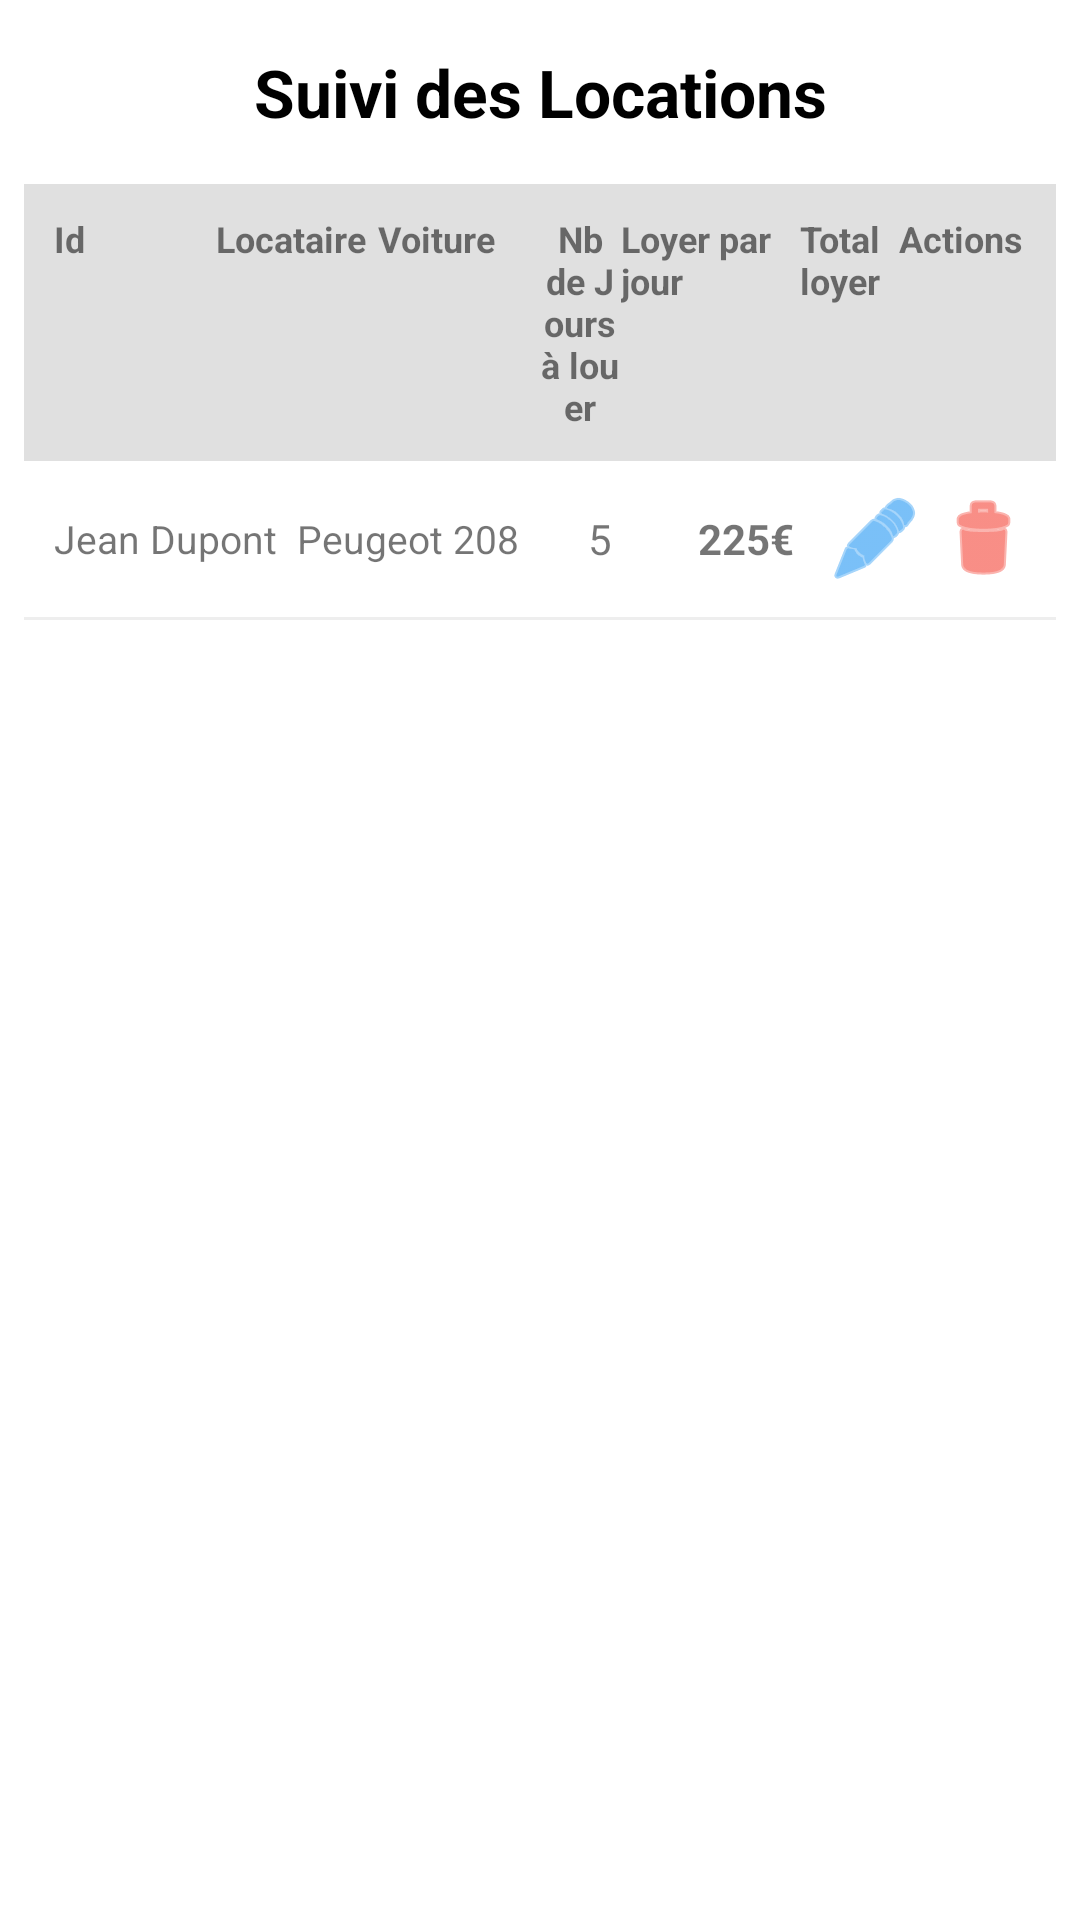

Icon bounding boxes for this 1080 x 1920 phone screenshot, format (x1, y1, x2, y2):
delete: (956, 500, 1011, 575)
edit: (834, 498, 915, 579)
